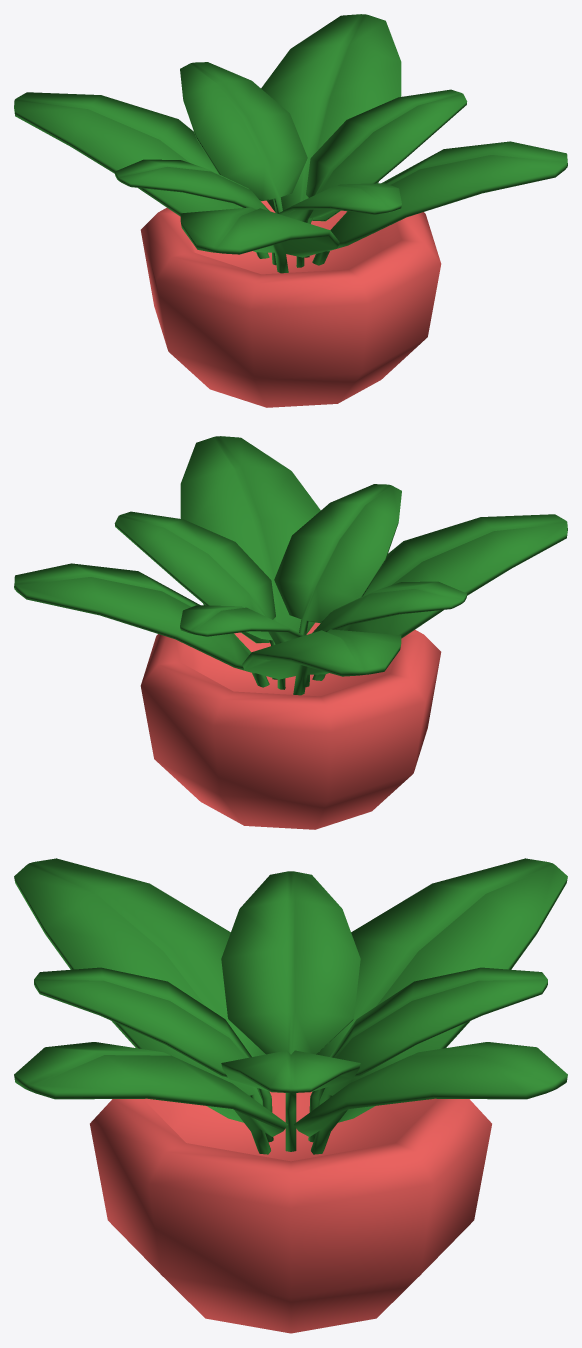
File: planta1.fbx
3 views of the same model, one above another, from view 1: azimuth 30°, elevation 25°; view 2: azimuth 150°, elevation 25°; view 3: azimuth 270°, elevation 25° (orthographic). The views are drawn at different scales.
Visible parts, largest first — view 1: Planta; view 2: Planta; view 3: Planta.
Part boxes in pixels (left/top/right/bottom): Planta: left=14, top=14, right=567, bottom=407; Planta: left=14, top=436, right=567, bottom=829; Planta: left=14, top=858, right=567, bottom=1333.
Bounding box in the file's own units: 12.98 × 8.01 × 12.98.
